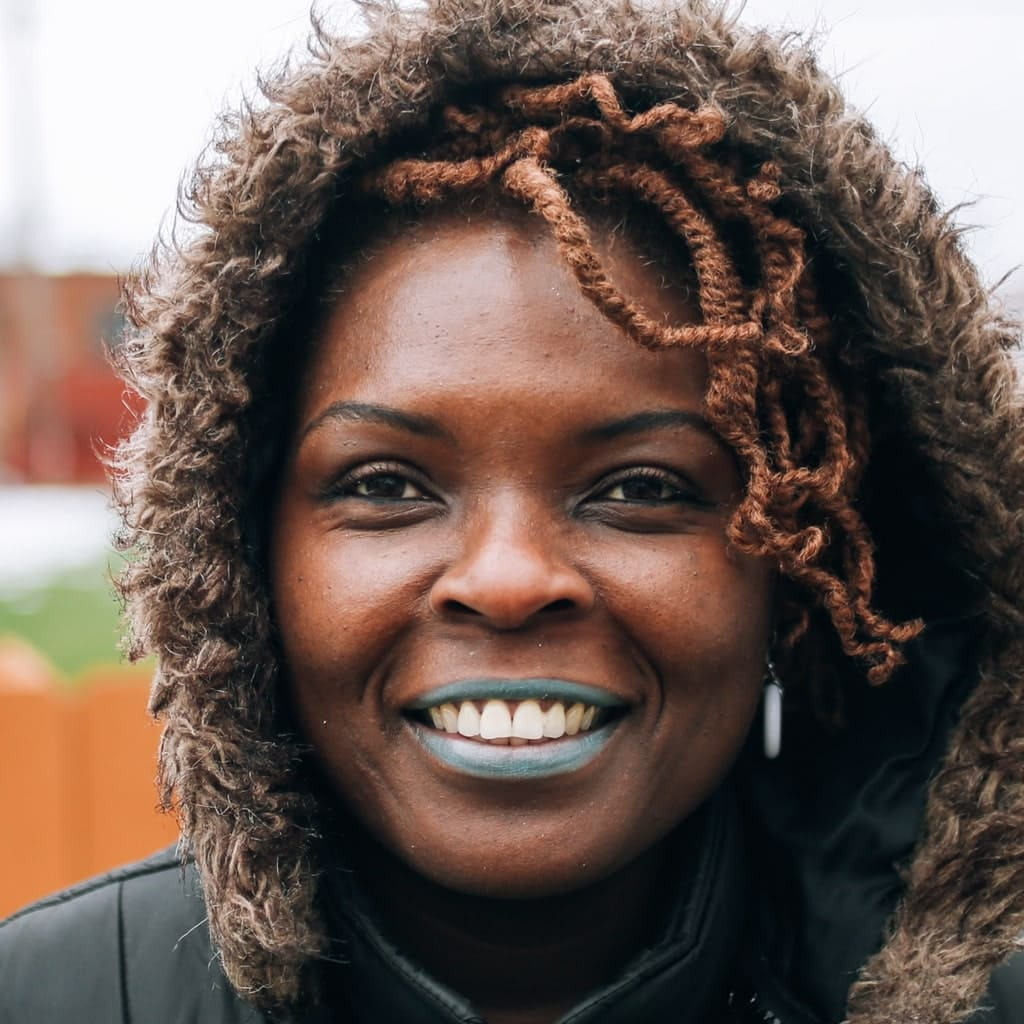without_mask: (276, 277, 751, 819)
